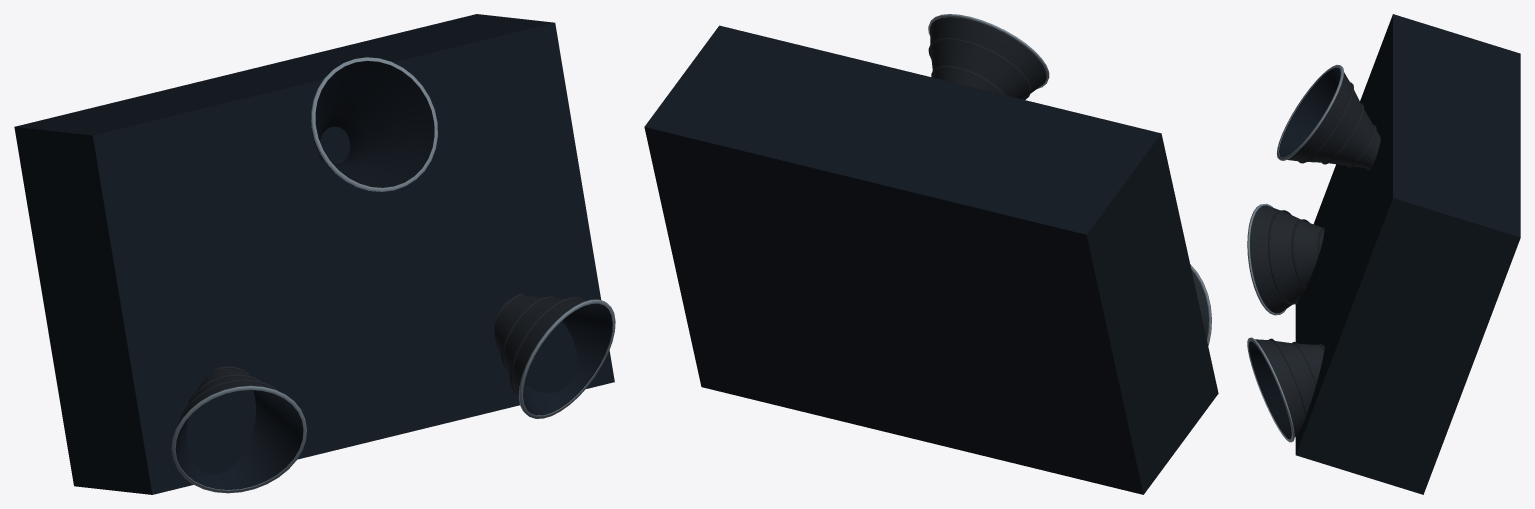
Rendered from dragon_draco.cluster_01.glb.
3 renders of one model, left to right at view 1: azimuth 30°, elevation 25°; view 2: azimuth 150°, elevation 25°; view 3: azimuth 270°, elevation 25°, orthographic. The views are drawn at different scales.
Visible parts, largest first — view 1: dragon_draco.cluster_01.mesh_Shadowed_interior, dragon_draco.cluster_01.nozzle_03.bell.mesh_Shadowed_interio, dragon_draco.cluster_01.nozzle_01.bell.mesh_Shadowed_interio, dragon_draco.cluster_01.nozzle_02.bell.mesh_Carbon_composite, dragon_draco.cluster_01.nozzle_02.bell.mesh_Shadowed_interio, dragon_draco.cluster_01.nozzle_03.bell.mesh_Machined_steel, dragon_draco.cluster_01.nozzle_01.bell.mesh_Machined_steel, dragon_draco.cluster_01.nozzle_01.bell.mesh_Carbon_composite, dragon_draco.cluster_01.nozzle_02.bell.mesh_Machined_steel; view 2: dragon_draco.cluster_01.mesh_Shadowed_interior, dragon_draco.cluster_01.nozzle_03.bell.mesh_Carbon_composite; view 3: dragon_draco.cluster_01.mesh_Shadowed_interior, dragon_draco.cluster_01.nozzle_01.bell.mesh_Carbon_composite, dragon_draco.cluster_01.nozzle_03.bell.mesh_Carbon_composite, dragon_draco.cluster_01.nozzle_02.bell.mesh_Carbon_composite, dragon_draco.cluster_01.nozzle_03.bell.mesh_Shadowed_interio, dragon_draco.cluster_01.nozzle_02.bell.mesh_Shadowed_interio, dragon_draco.cluster_01.nozzle_03.bell.mesh_Machined_steel, dragon_draco.cluster_01.nozzle_02.bell.mesh_Machined_steel, dragon_draco.cluster_01.nozzle_01.bell.mesh_Machined_steel.
Part boxes in pixels (x1,y1,x2,y2): dragon_draco.cluster_01.mesh_Shadowed_interior: (14, 14, 614, 494); dragon_draco.cluster_01.nozzle_03.bell.mesh_Shadowed_interio: (315, 61, 434, 187); dragon_draco.cluster_01.nozzle_01.bell.mesh_Shadowed_interio: (175, 390, 303, 489); dragon_draco.cluster_01.nozzle_02.bell.mesh_Carbon_composite: (493, 293, 588, 398); dragon_draco.cluster_01.nozzle_02.bell.mesh_Shadowed_interio: (523, 303, 612, 415); dragon_draco.cluster_01.nozzle_03.bell.mesh_Machined_steel: (311, 57, 437, 191); dragon_draco.cluster_01.nozzle_01.bell.mesh_Machined_steel: (171, 385, 306, 493); dragon_draco.cluster_01.nozzle_01.bell.mesh_Carbon_composite: (178, 366, 280, 424); dragon_draco.cluster_01.nozzle_02.bell.mesh_Machined_steel: (518, 299, 615, 418); dragon_draco.cluster_01.mesh_Shadowed_interior: (644, 25, 1218, 494); dragon_draco.cluster_01.nozzle_03.bell.mesh_Carbon_composite: (928, 17, 1046, 99); dragon_draco.cluster_01.mesh_Shadowed_interior: (1295, 14, 1520, 494); dragon_draco.cluster_01.nozzle_01.bell.mesh_Carbon_composite: (1250, 205, 1324, 313); dragon_draco.cluster_01.nozzle_03.bell.mesh_Carbon_composite: (1287, 72, 1380, 169); dragon_draco.cluster_01.nozzle_02.bell.mesh_Carbon_composite: (1255, 338, 1324, 437); dragon_draco.cluster_01.nozzle_03.bell.mesh_Shadowed_interio: (1279, 67, 1340, 157); dragon_draco.cluster_01.nozzle_02.bell.mesh_Shadowed_interio: (1249, 341, 1291, 439); dragon_draco.cluster_01.nozzle_03.bell.mesh_Machined_steel: (1276, 64, 1343, 160); dragon_draco.cluster_01.nozzle_02.bell.mesh_Machined_steel: (1247, 337, 1294, 442); dragon_draco.cluster_01.nozzle_01.bell.mesh_Machined_steel: (1247, 203, 1286, 315).
Bounding box in the file's own units: 0.58 × 0.4882 × 0.3646.
